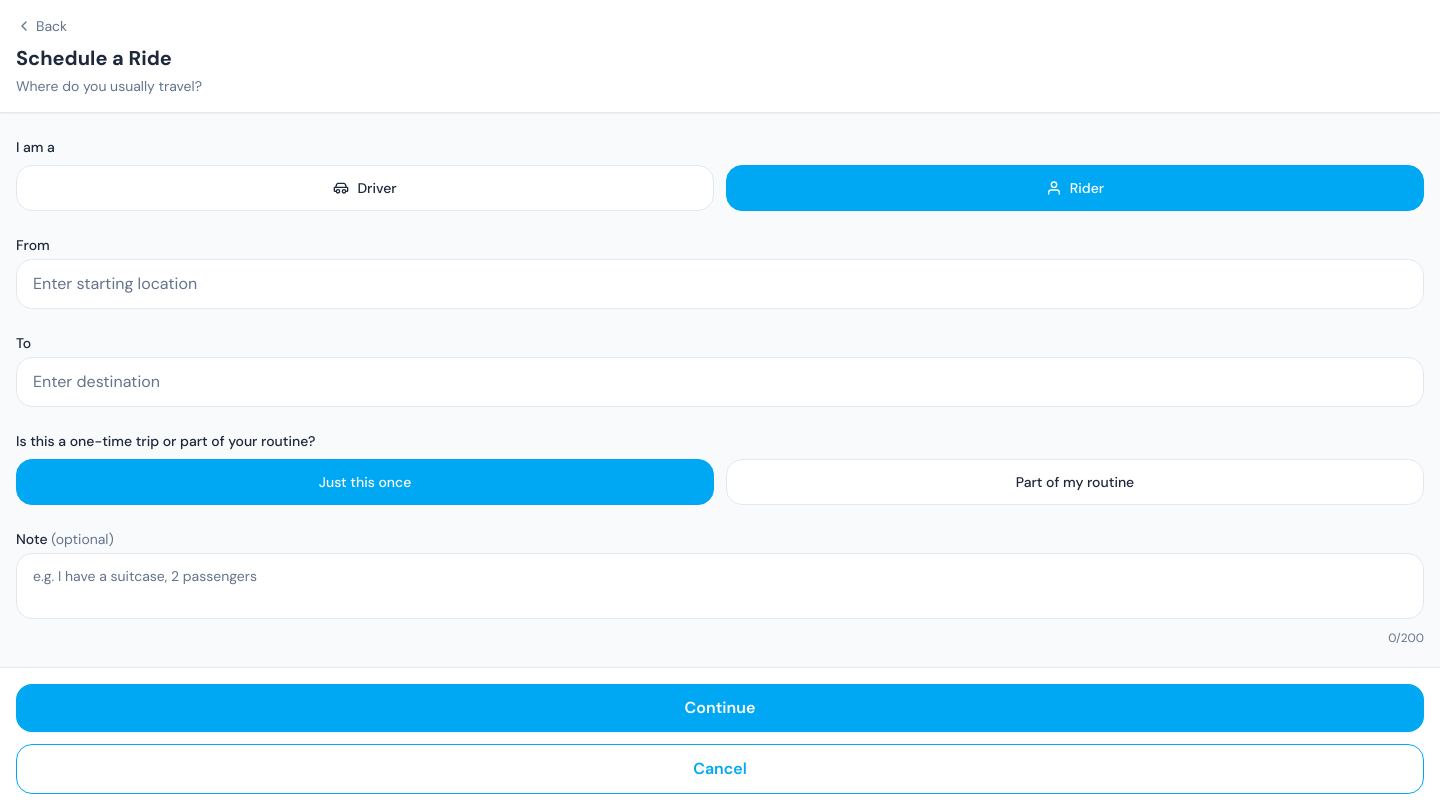
SchedulePage › allows continue without route name (route name is optional)
# Fill locations but not route name
Step 1. Type "UC" into the field with test id "from-location-input" → (720, 284), box x1=16 y1=259 x2=1424 y2=309
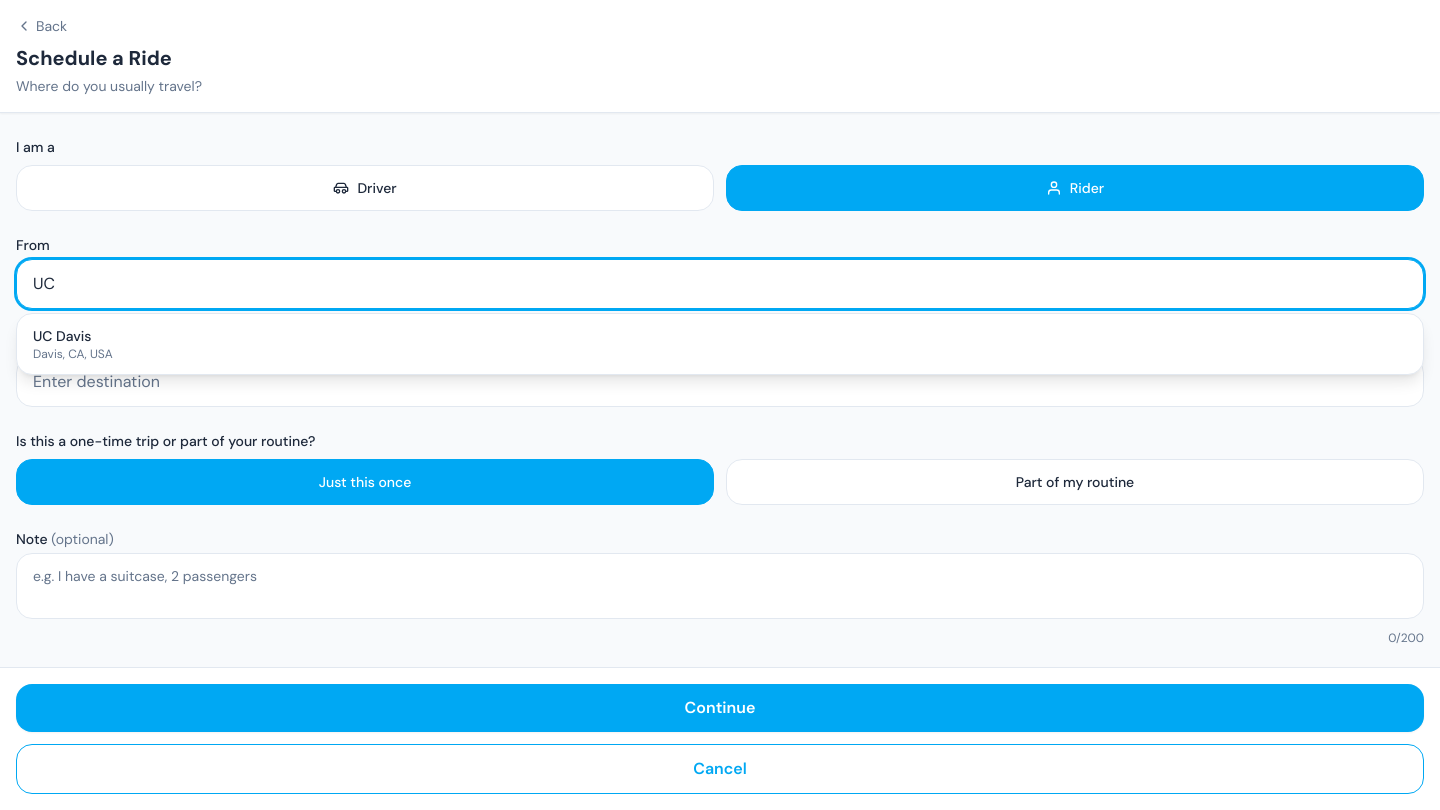
Result: the element with test id "from-suggestions" is shown
Step 2. Click the button "UC Davis Davis, CA, USA" → click(62, 336), box x1=17 y1=314 x2=1423 y2=374
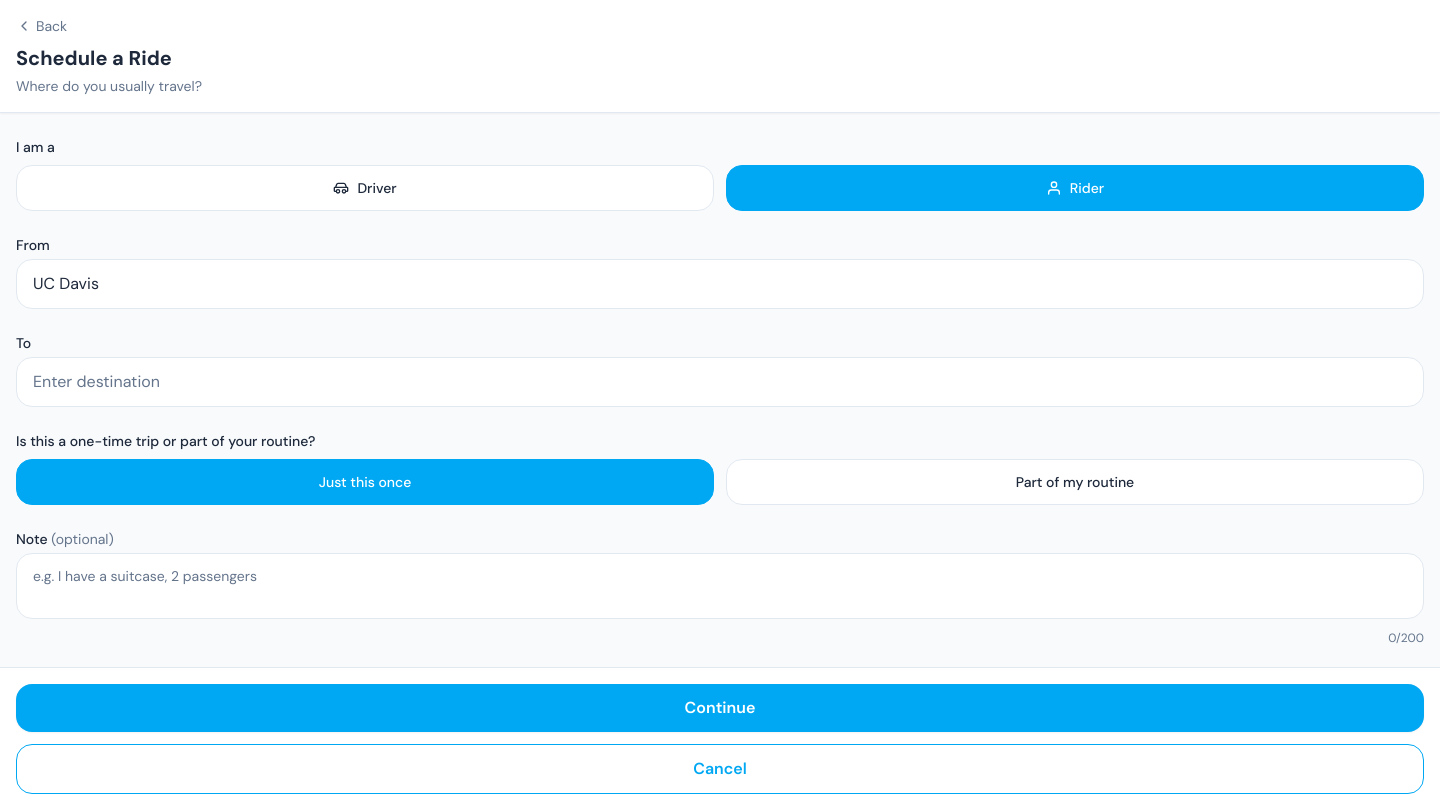
Step 3. Type "SF" into the field with test id "to-location-input" → (720, 382), box x1=16 y1=357 x2=1424 y2=407
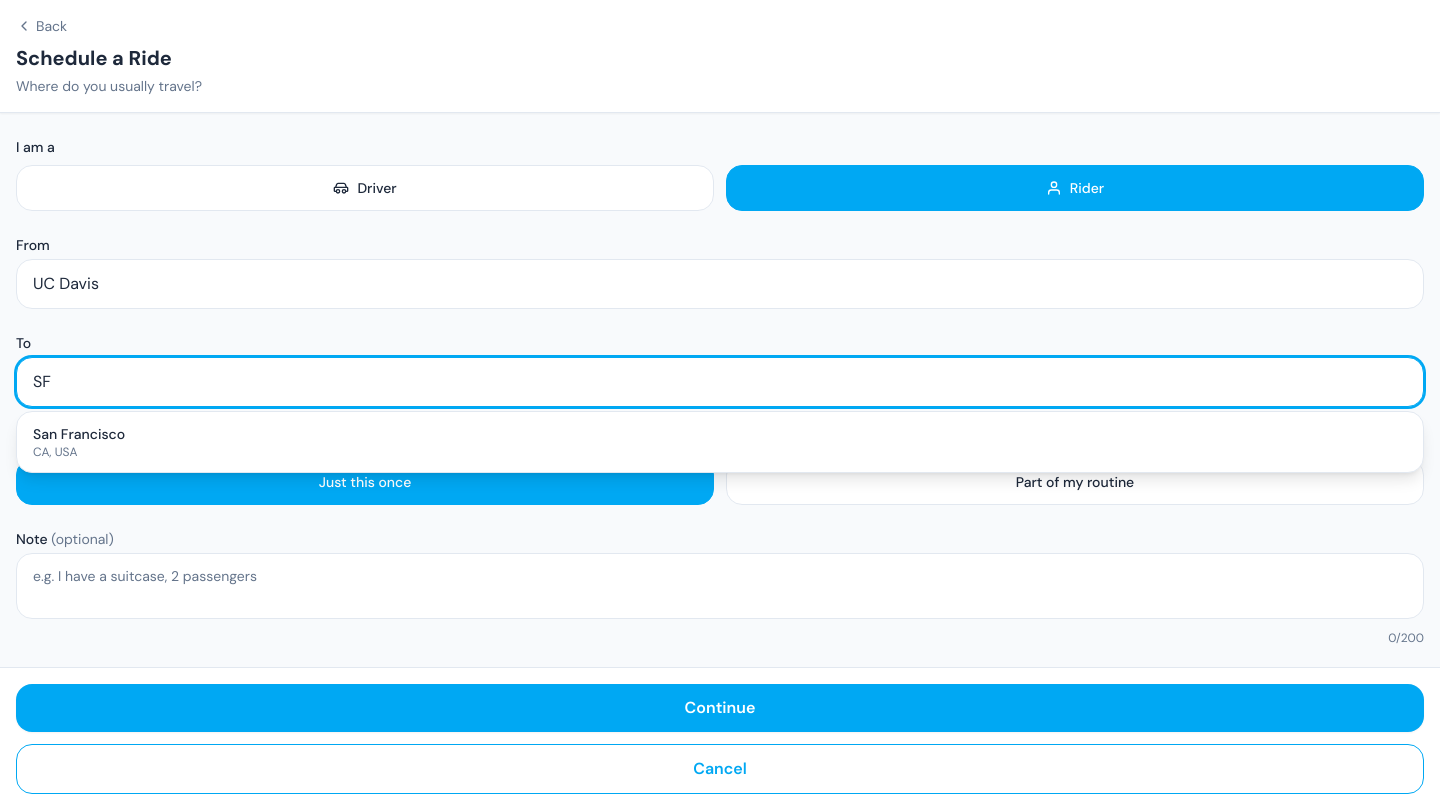
Result: the element with test id "to-suggestions" is shown
Step 4. Click the button "San Francisco CA, USA" → click(79, 434), box x1=17 y1=412 x2=1423 y2=472
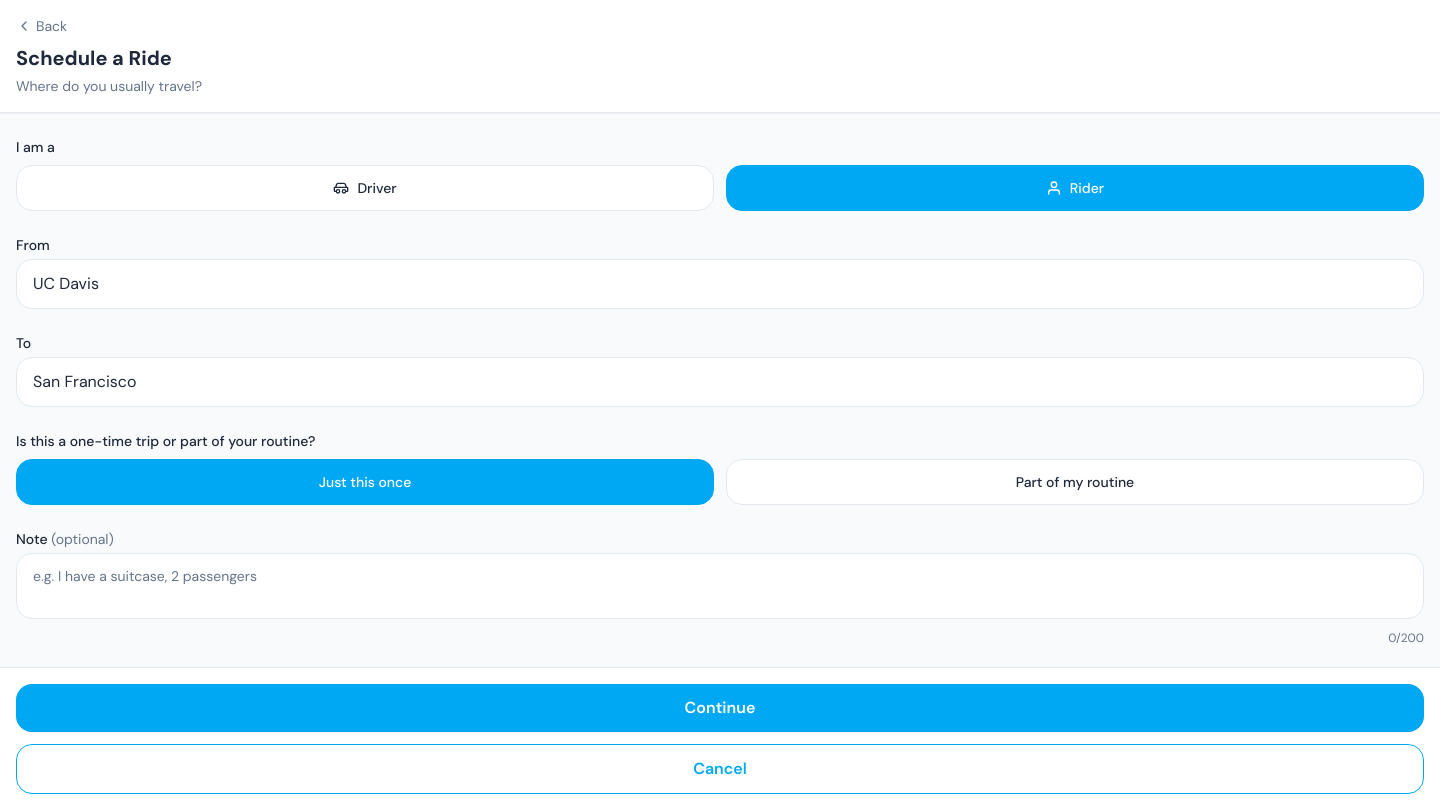
# Click continue without route name — should proceed
Step 5. Click the button with test id "continue-button" → click(720, 708), box x1=16 y1=684 x2=1424 y2=732
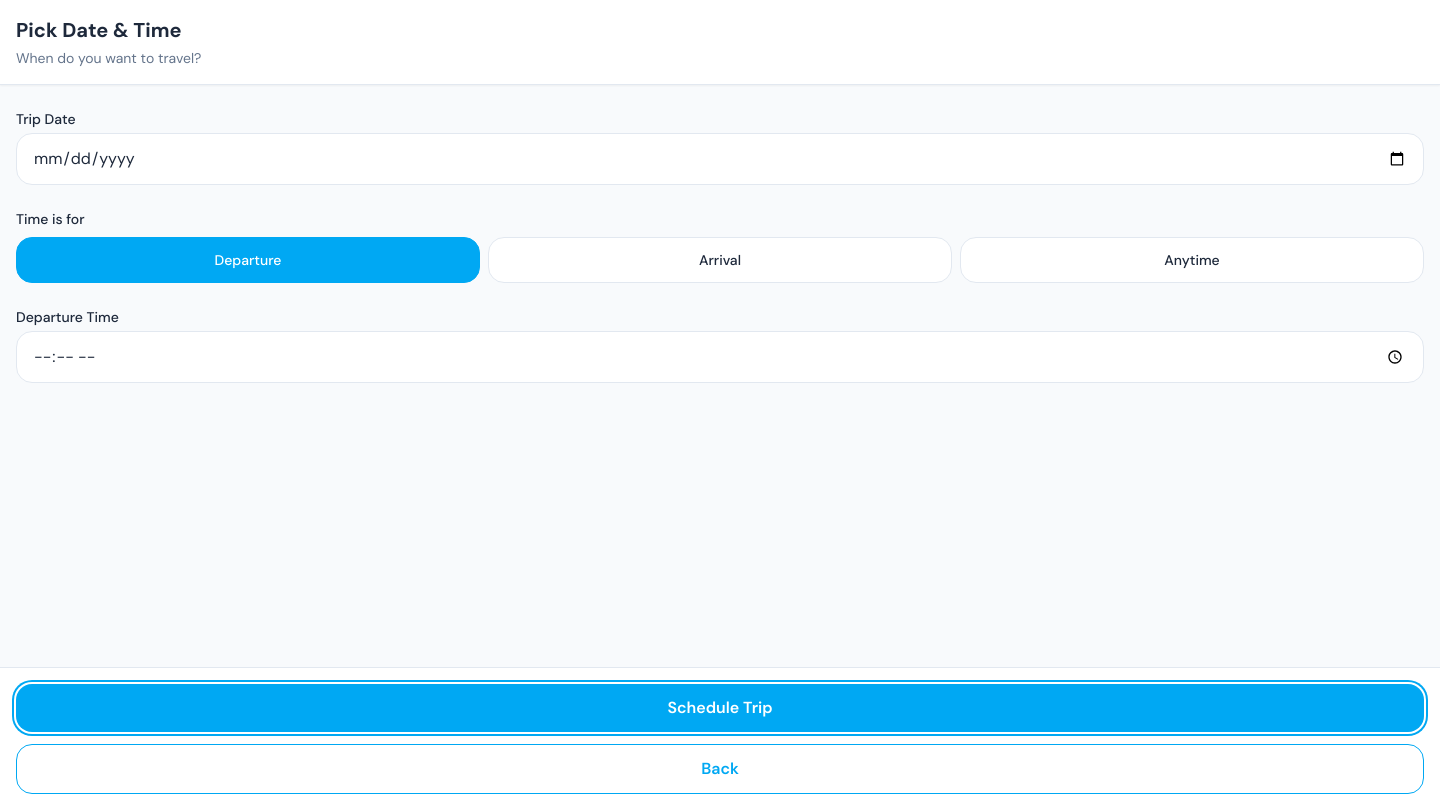
Result: the date field with test id "trip-date-input" is shown at x1=16 y1=133 x2=1424 y2=185
